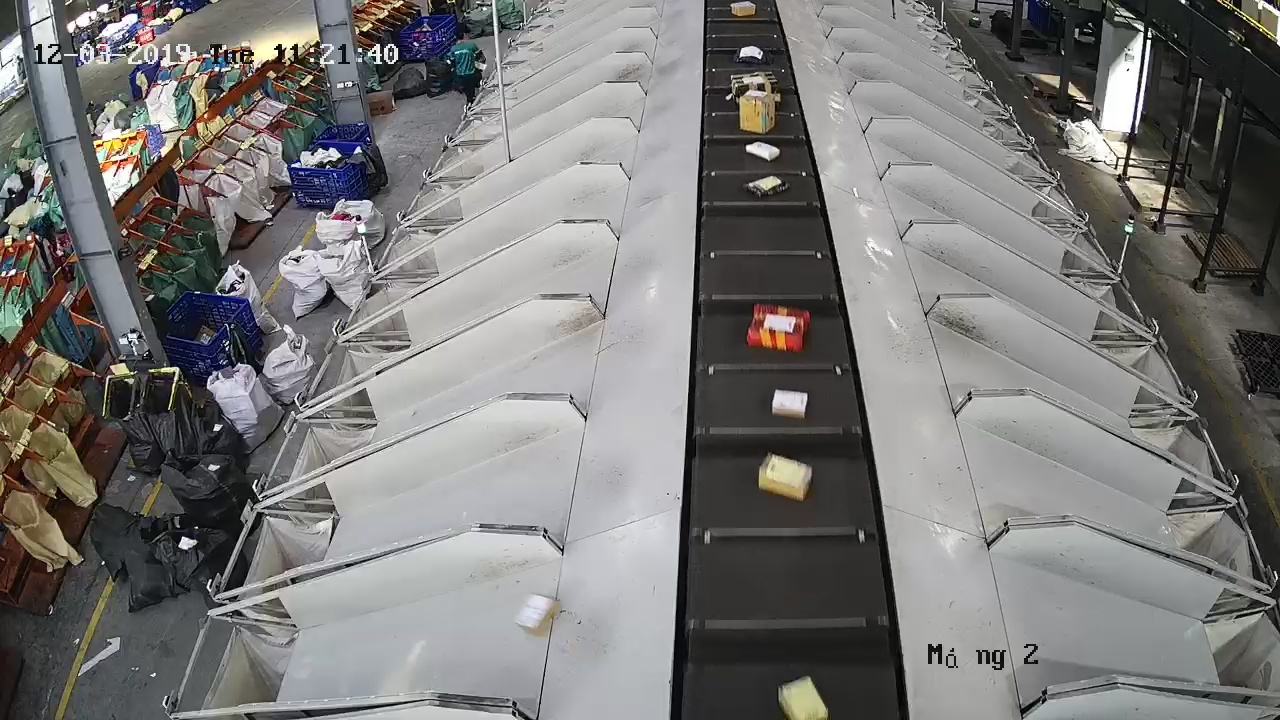parcel: (745, 302, 812, 355), (756, 450, 814, 503), (514, 592, 559, 635), (770, 388, 809, 421), (742, 173, 791, 199), (745, 141, 782, 163)
